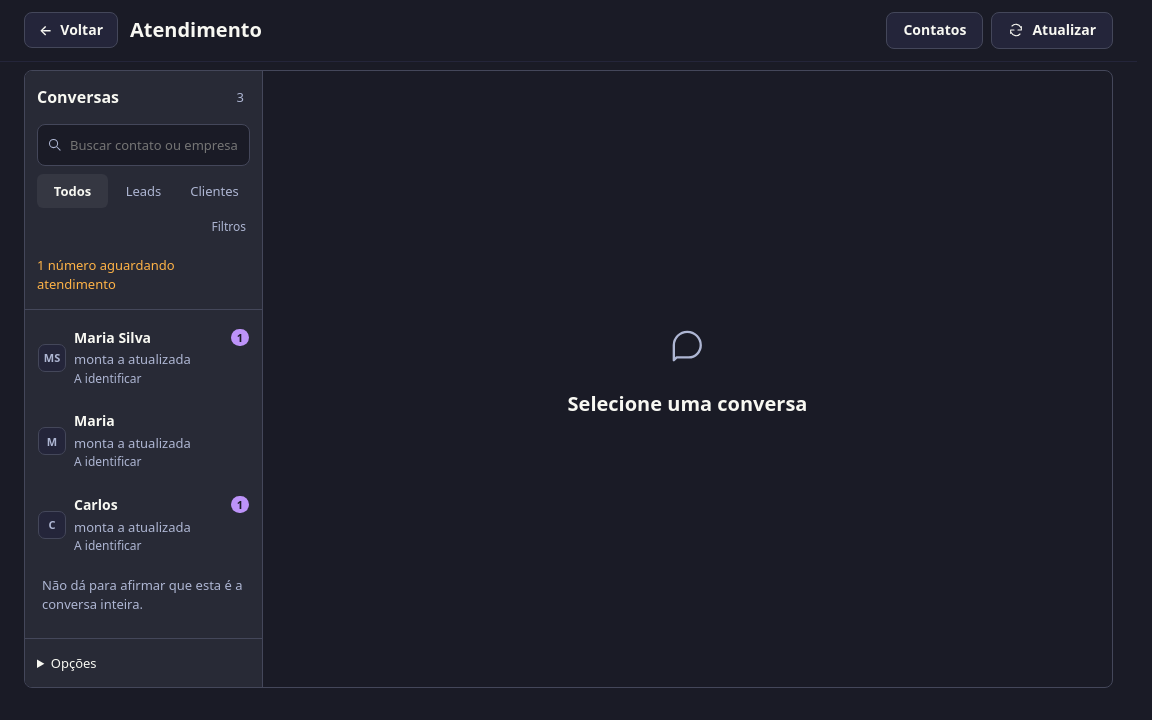
Test: o fio › mostra QUEM escreveu cada balão e a pendência aberta
Click the button with test id "conversa-cv1": (144, 358) [30, 317, 257, 398]
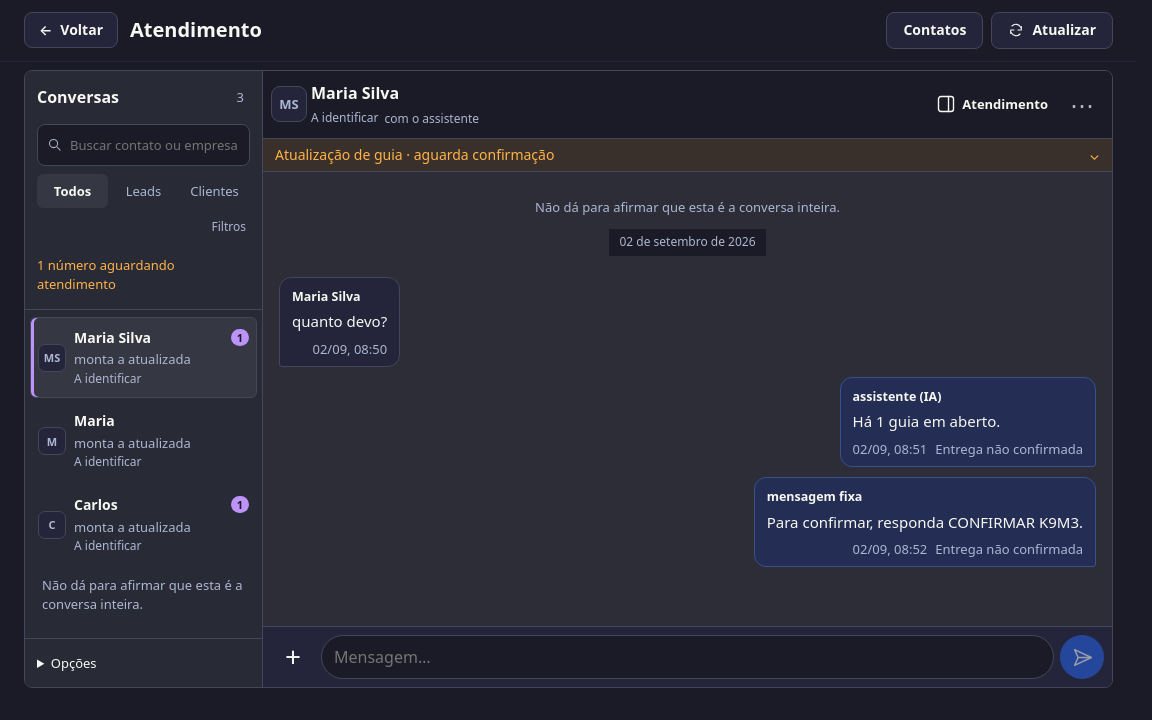
Now the element with test id "balao-m1" shows "Maria", box [292, 288, 361, 305]
Now the element with test id "balao-m2" shows "assistente (IA)", box [853, 388, 941, 405]
Now the element with test id "balao-m3" shows "mensagem fixa", box [767, 488, 862, 505]
// Com a IA: oferece Assumir, não Devolver.
Click the heading named "Mais ações da conversa": (1082, 104) [1070, 88, 1094, 121]
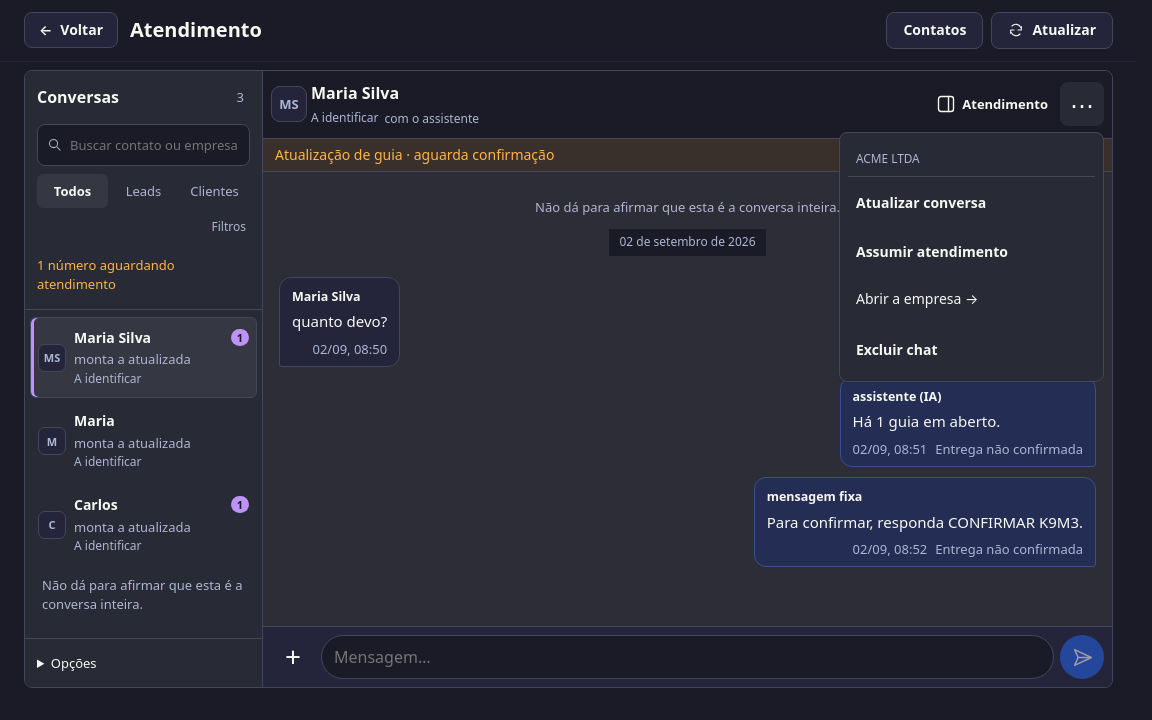
Now the button "Assumir atendimento" is shown, box [848, 231, 1095, 275]
